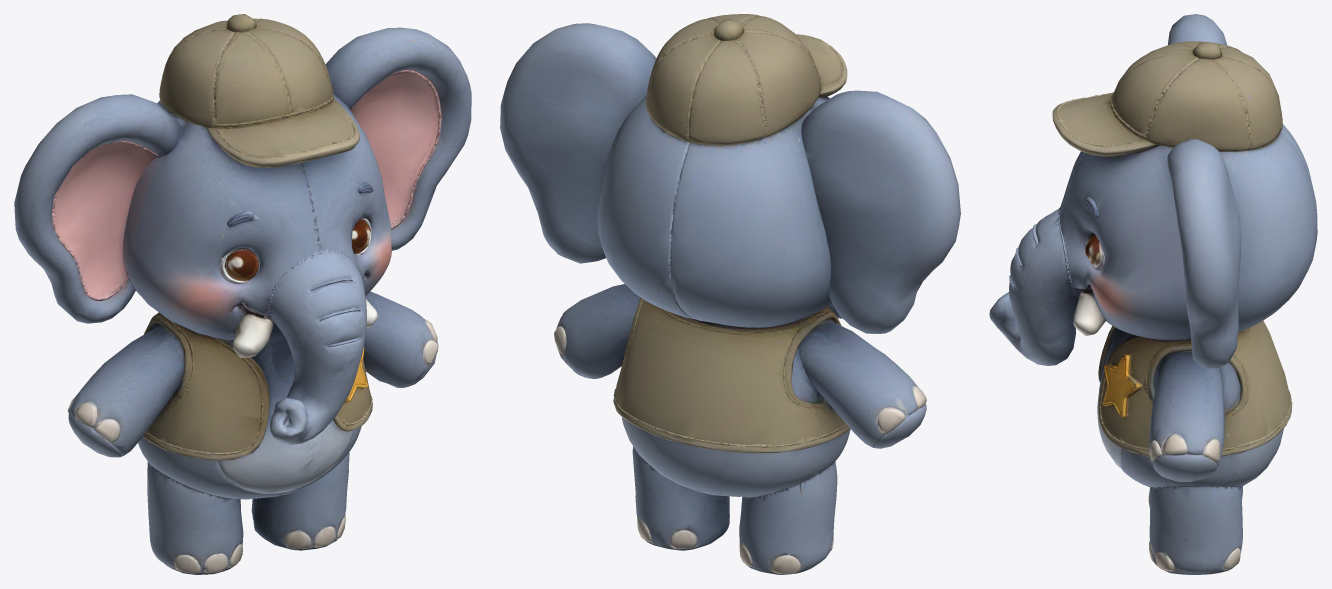
The model's file is npc_elephant.glb.
The picture shows the model from 3 angles, left to right: view 1: azimuth 30°, elevation 25°; view 2: azimuth 150°, elevation 25°; view 3: azimuth 270°, elevation 25°; orthographic projection. The views are drawn at different scales.
Visible parts, largest first — view 1: node_0; view 2: node_0; view 3: node_0.
Boxes of the visible parts, x1=… form: node_0: x1=14, y1=14, x2=471, y2=574; node_0: x1=500, y1=14, x2=960, y2=574; node_0: x1=989, y1=14, x2=1317, y2=574.
Bounding box in the file's own units: 0.9899 × 1.11 × 0.6638.
Materials: 1 (1 with a texture image).
